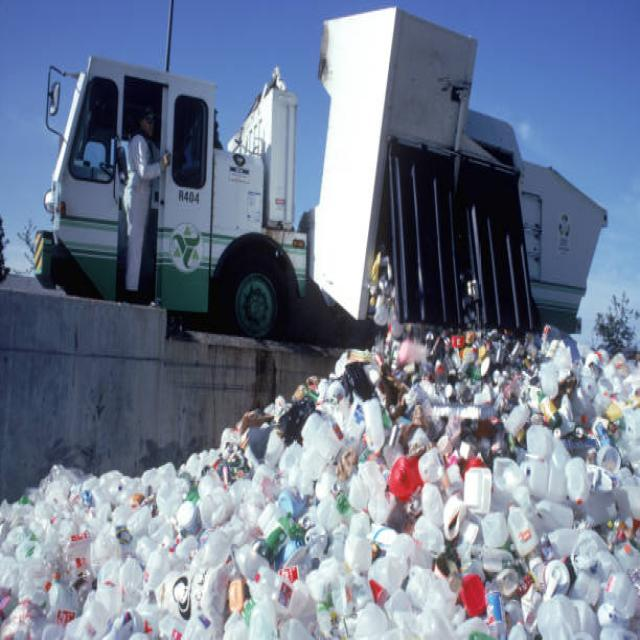plastic: (46, 351, 625, 623)
